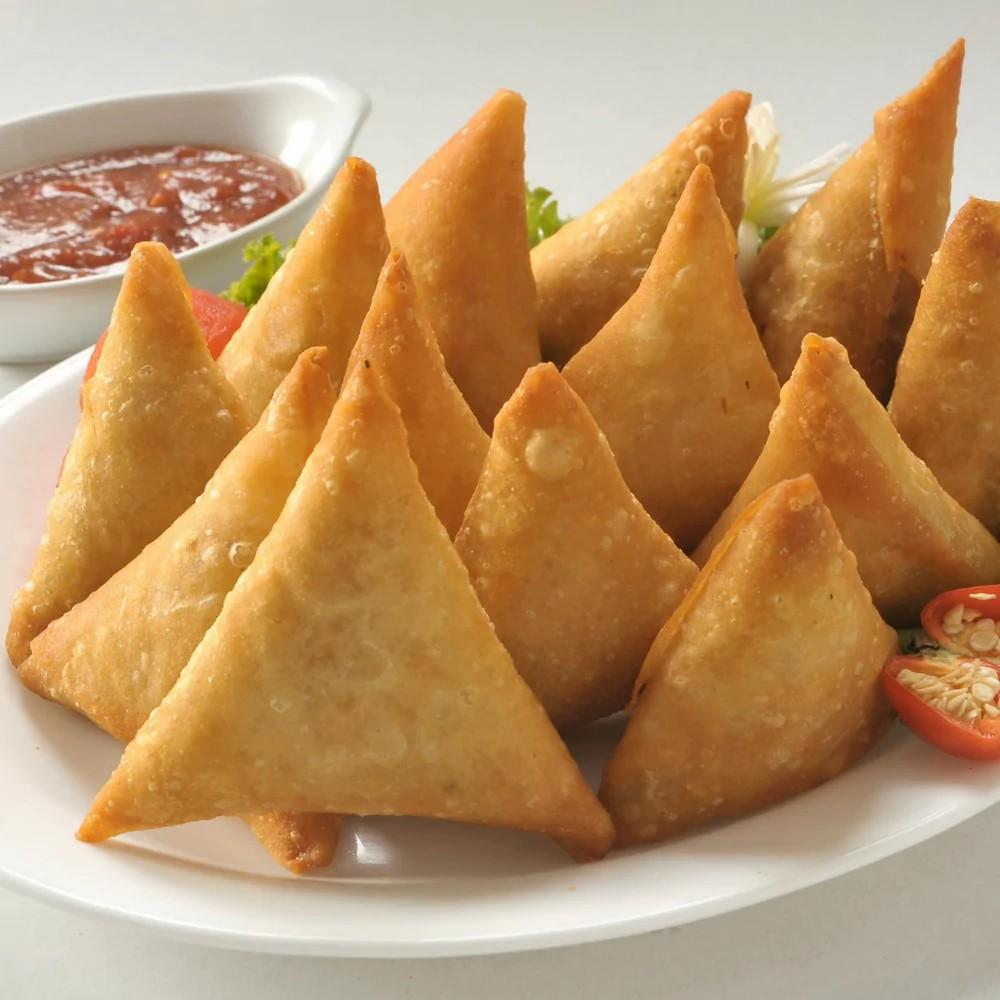Samosa: (76, 354, 622, 871), (605, 473, 908, 846), (6, 244, 240, 664), (561, 154, 783, 553), (698, 329, 1000, 606), (734, 41, 971, 388), (526, 89, 771, 351), (387, 89, 548, 437), (211, 151, 387, 424)
